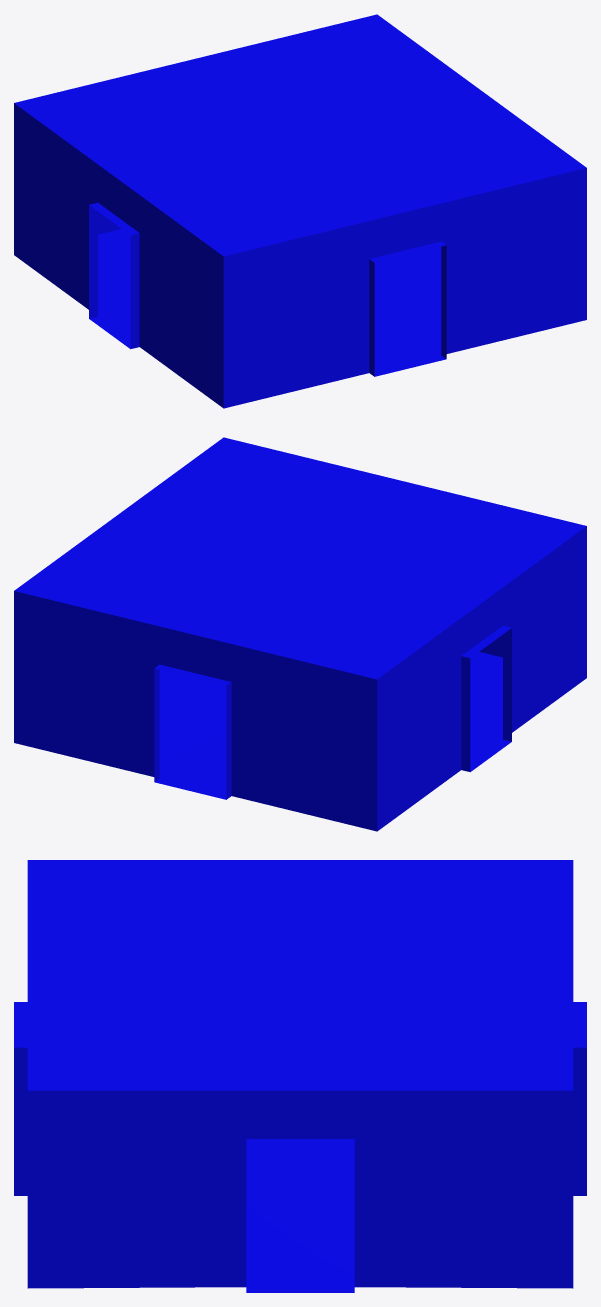
File: western rooms.FBX
3 views of the same model, one above another, from view 1: azimuth 30°, elevation 25°; view 2: azimuth 150°, elevation 25°; view 3: azimuth 270°, elevation 25° (orthographic). The views are drawn at different scales.
Parts seen in each view (by area): view 1: Rooms-4Door; view 2: Rooms-4Door; view 3: Rooms-4Door.
Boxes of the visible parts, x1=… form: Rooms-4Door: x1=14, y1=14, x2=586, y2=408; Rooms-4Door: x1=14, y1=437, x2=586, y2=831; Rooms-4Door: x1=14, y1=860, x2=586, y2=1292.
Size of the model in its own units: 21 by 21 by 8.
